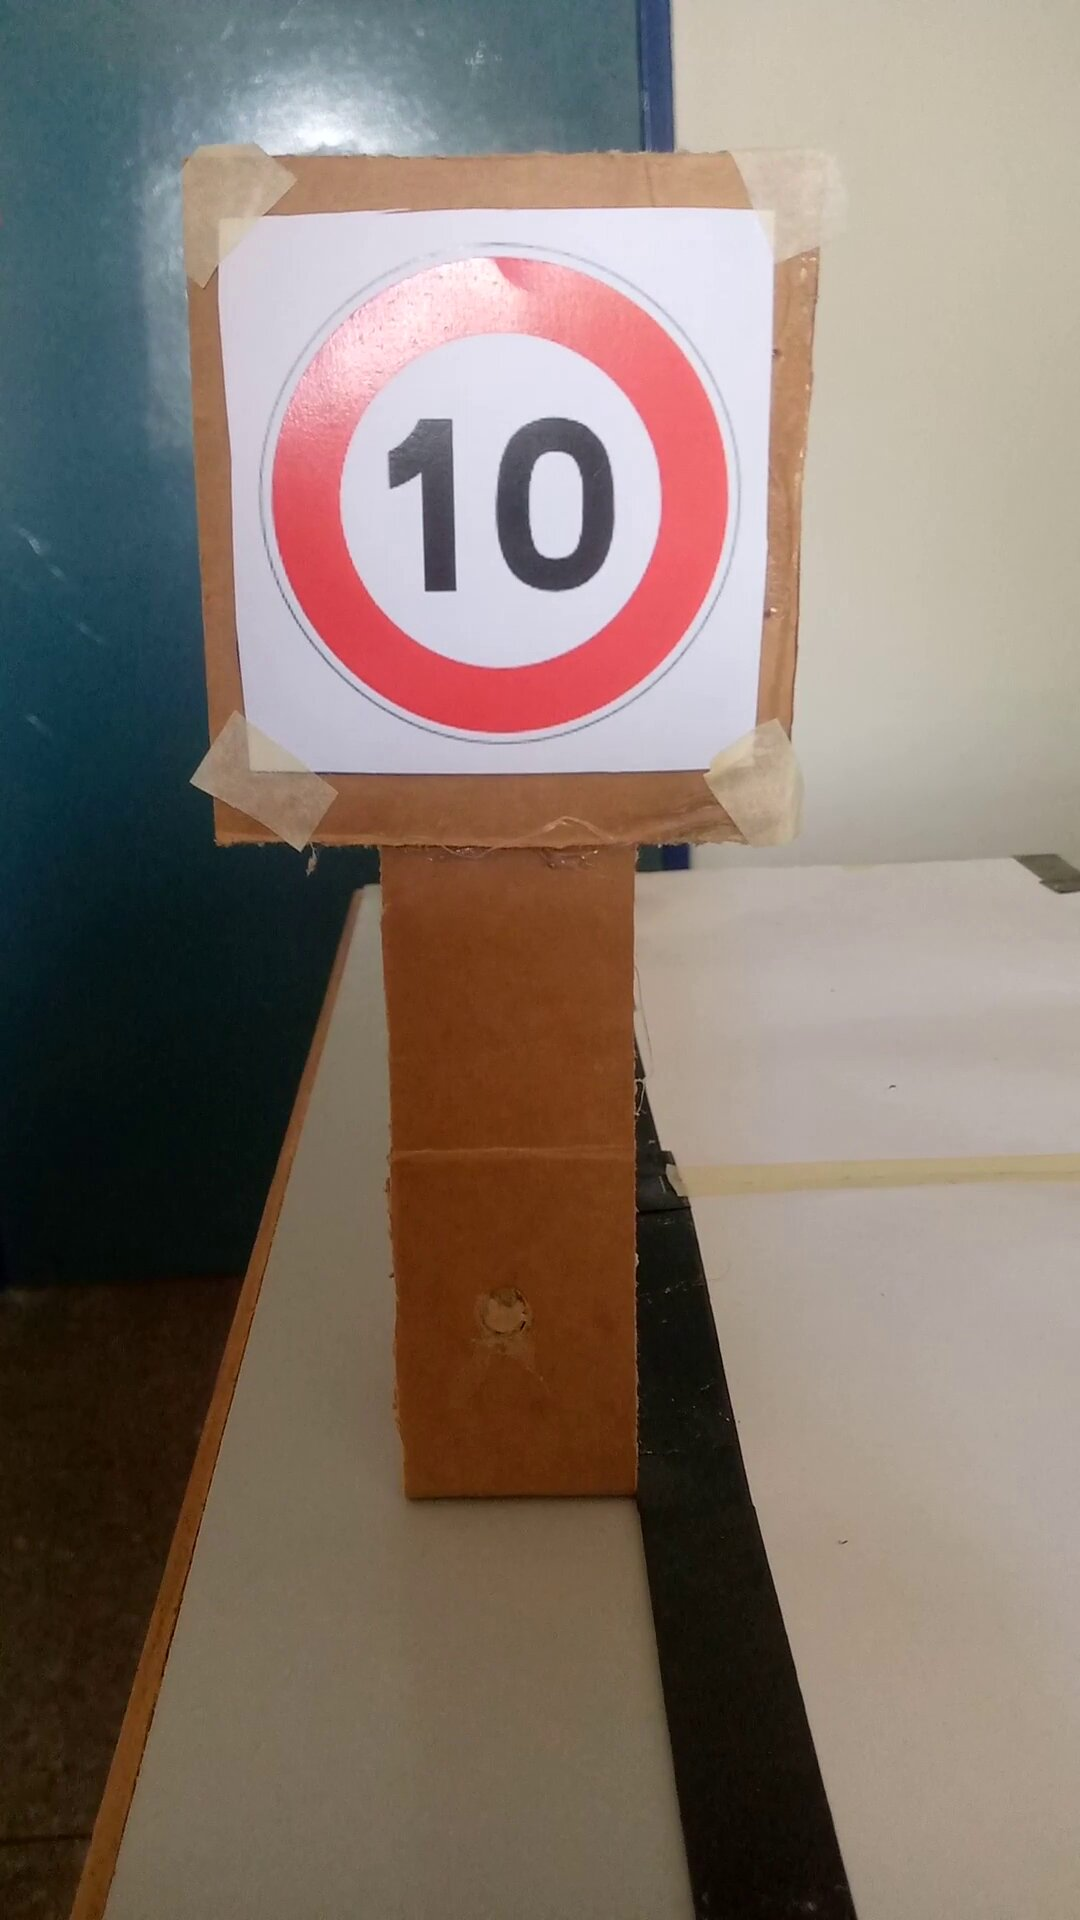panel011: (200, 200, 795, 808)
